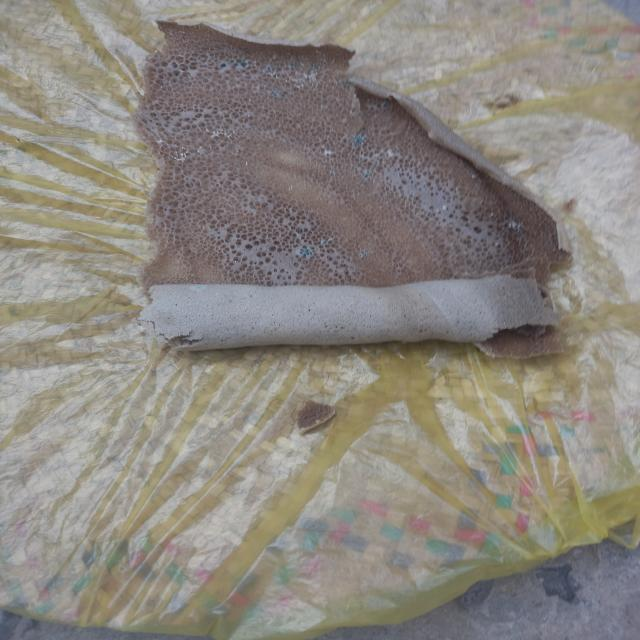injera_mold: (284, 70, 322, 89), (160, 144, 189, 163), (374, 147, 403, 161), (205, 126, 234, 140), (348, 132, 368, 148), (503, 218, 525, 230), (294, 246, 313, 258), (264, 65, 280, 79), (319, 237, 335, 246), (267, 90, 283, 98), (358, 249, 370, 259), (341, 78, 353, 88), (235, 58, 247, 67), (434, 206, 448, 213), (192, 285, 207, 291), (380, 99, 390, 107), (309, 61, 320, 68), (218, 61, 228, 68), (323, 150, 334, 156), (362, 173, 372, 179), (288, 61, 298, 67), (328, 170, 336, 177), (470, 173, 479, 179), (287, 184, 294, 191), (494, 242, 502, 248), (168, 62, 176, 68), (320, 104, 329, 109), (244, 160, 250, 167), (156, 138, 164, 143), (320, 144, 327, 149)
